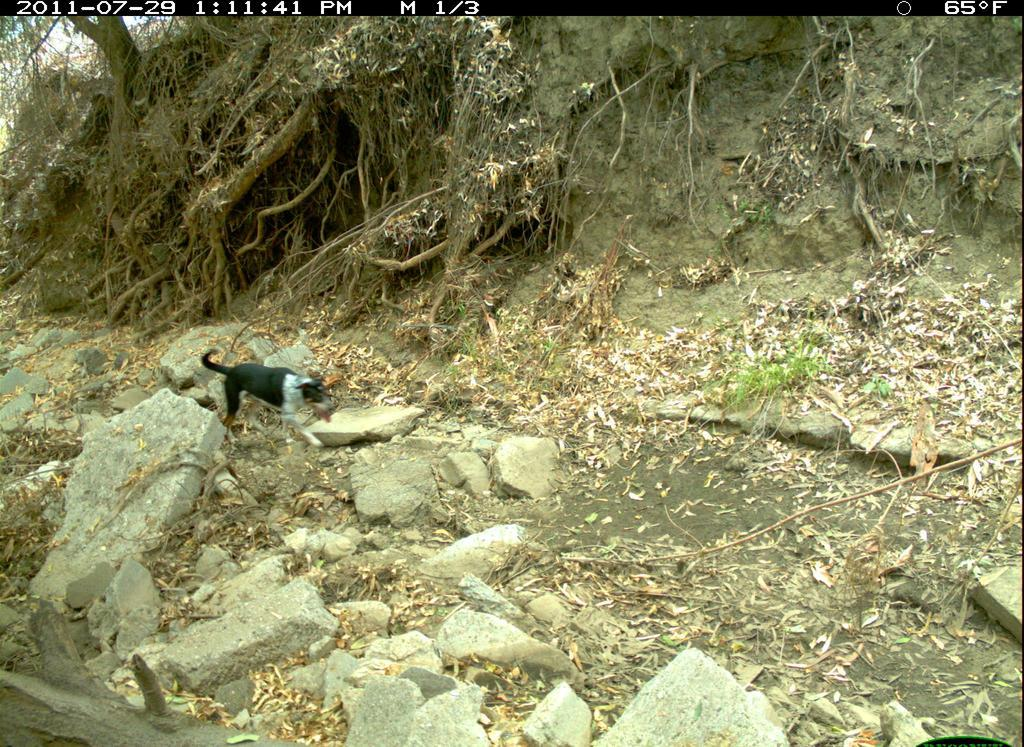dog: (195, 341, 340, 459)
